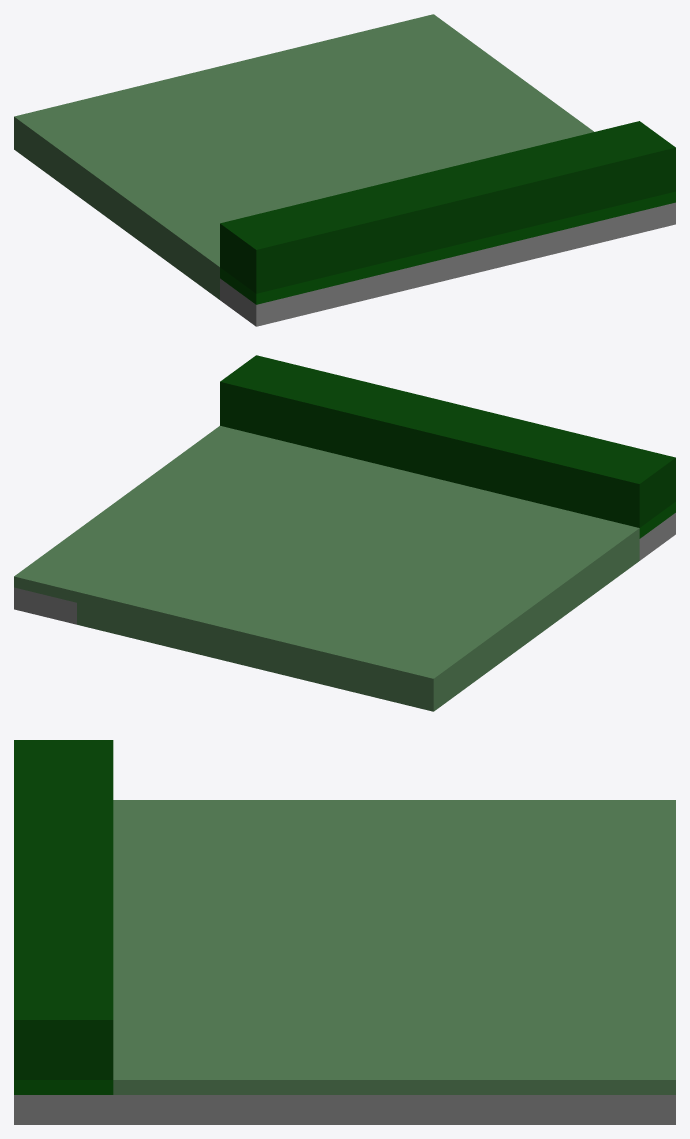
The model's file is Park side.obj.
The picture shows the model from 3 angles, top to bottom: view 1: azimuth 30°, elevation 25°; view 2: azimuth 150°, elevation 25°; view 3: azimuth 270°, elevation 25°; orthographic projection. The views are drawn at different scales.
Parts seen in each view (by area): view 1: Park_side.001; view 2: Park_side.001; view 3: Park_side.001.
Boxes of the visible parts, x1=… form: Park_side.001: x1=14, y1=14, x2=675, y2=326; Park_side.001: x1=14, y1=355, x2=675, y2=711; Park_side.001: x1=14, y1=740, x2=675, y2=1124.
Size of the model in its own units: 4 by 0.7 by 4.
Materials: 1 (1 with a texture image).
